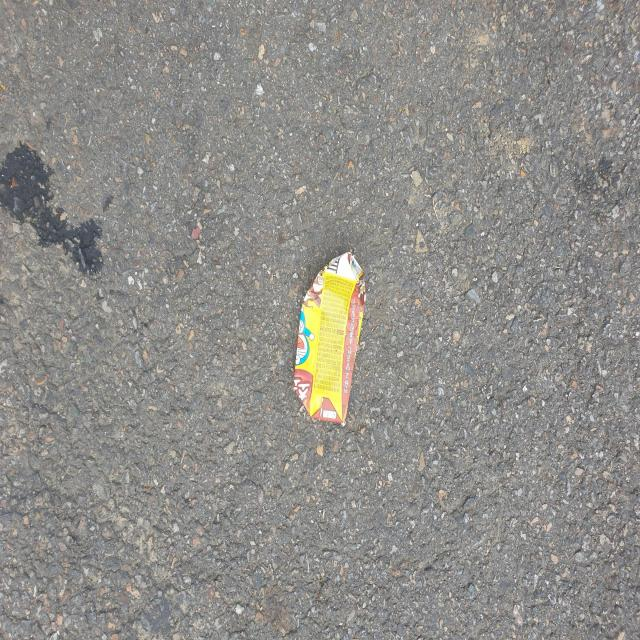paperpack: (294, 252, 366, 426)
